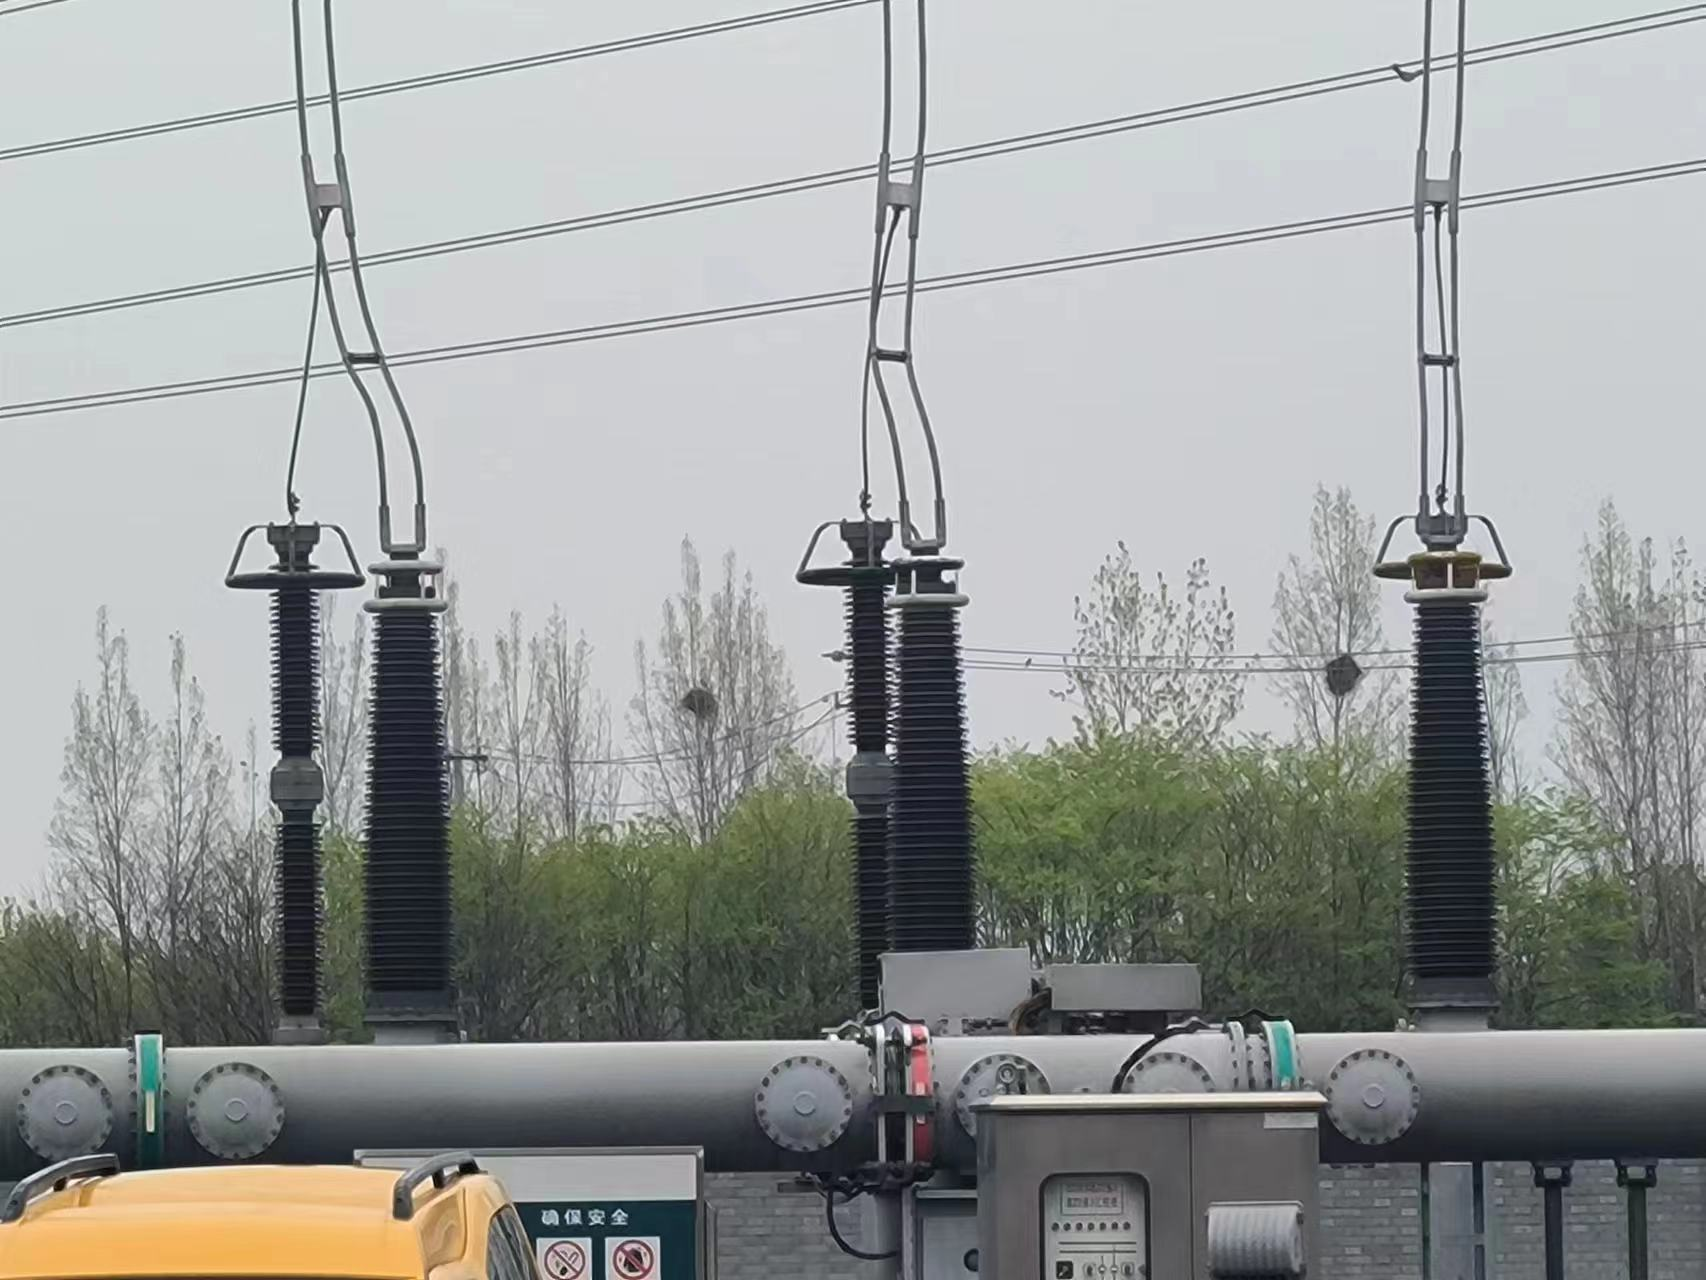Arrester: (220, 515, 363, 1019)
Voltage transformer: (364, 557, 453, 994), (1408, 555, 1494, 977), (889, 554, 969, 947)
